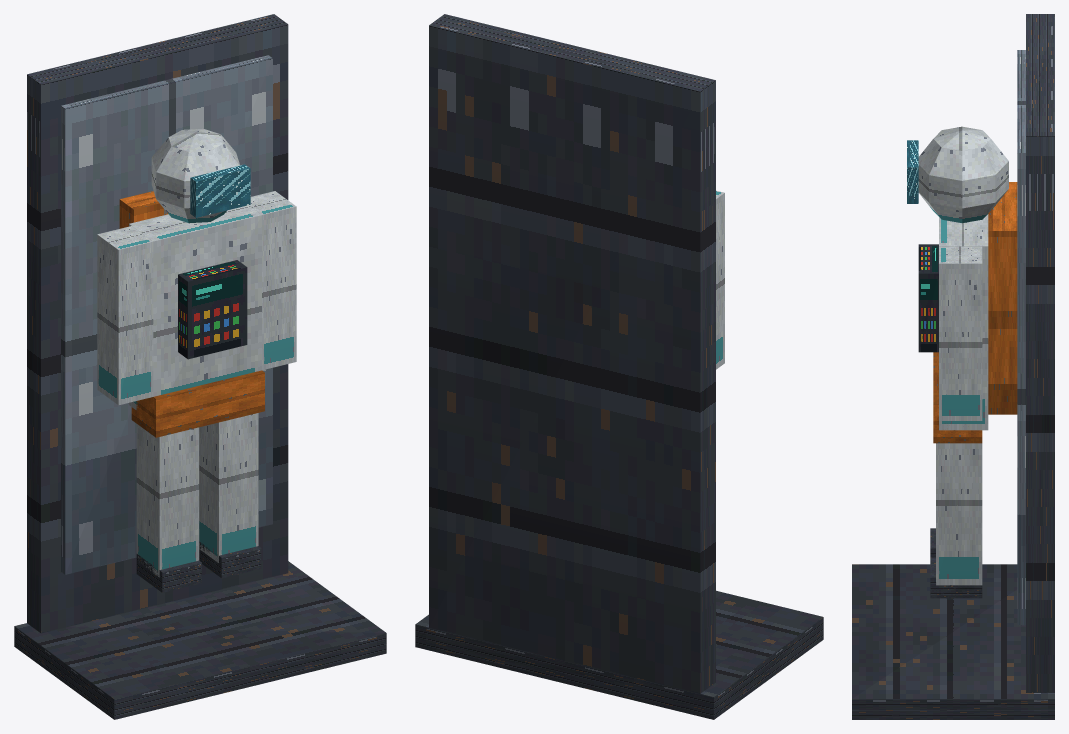
Rendered from space_suit_rack.glb.
3 renders of one model, left to right at view 1: azimuth 30°, elevation 25°; view 2: azimuth 150°, elevation 25°; view 3: azimuth 270°, elevation 25°, orthographic. The views are drawn at different scales.
Visible parts, largest first — view 1: space_suit_rack; view 2: space_suit_rack; view 3: space_suit_rack.
Boxes of the visible parts, left/top/right/bottom form: space_suit_rack: left=14, top=14, right=386, bottom=719; space_suit_rack: left=415, top=14, right=823, bottom=719; space_suit_rack: left=852, top=14, right=1054, bottom=719.
Size of the model in its own units: 1.1 by 2.2 by 0.7.
1 material, 1 textured.
